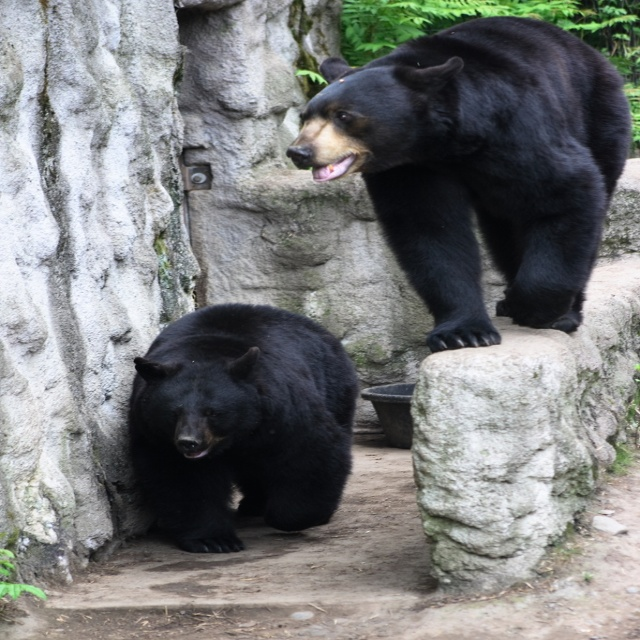Bear: (286, 16, 633, 353), (115, 301, 361, 554)
